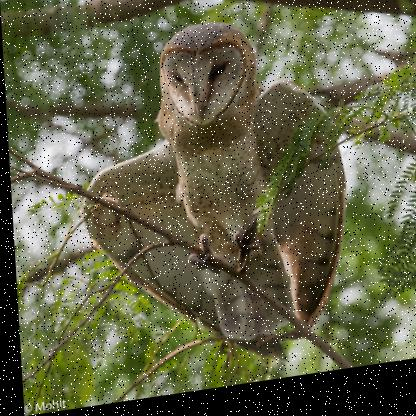Burung: (71, 14, 349, 375)
